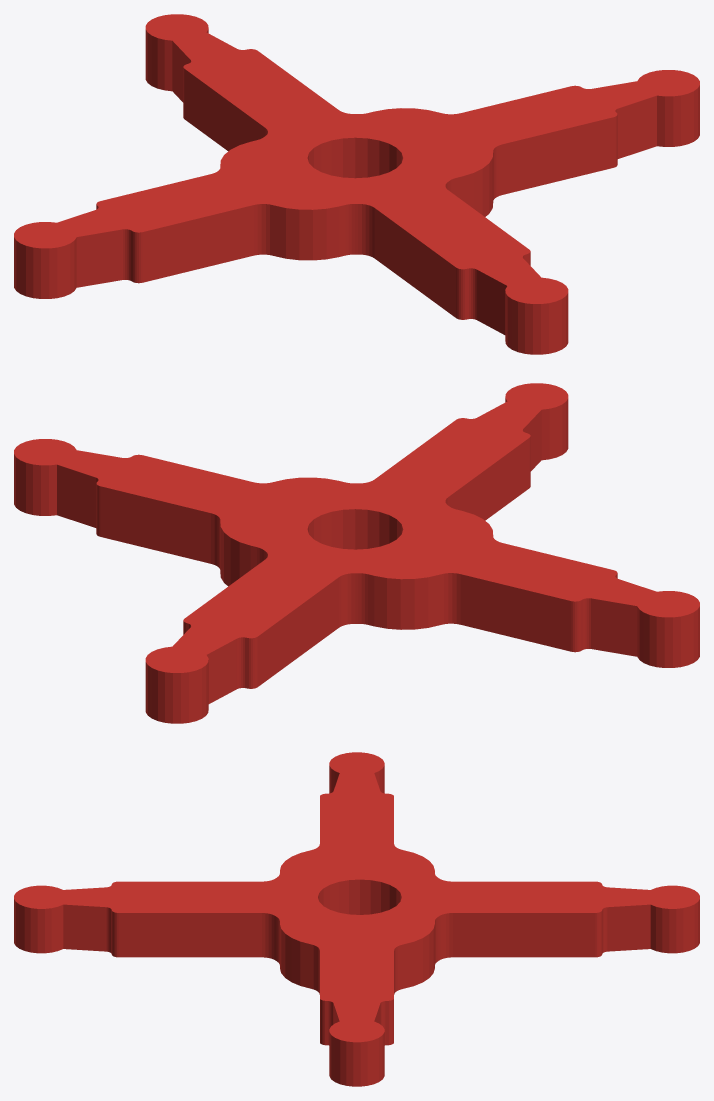
The model's file is star-4-u.fbx.
3 renders of one model, top to bottom at view 1: azimuth 30°, elevation 25°; view 2: azimuth 150°, elevation 25°; view 3: azimuth 270°, elevation 25°, orthographic. The views are drawn at different scales.
Visible parts, largest first — view 1: star_4_u; view 2: star_4_u; view 3: star_4_u.
Boxes of the visible parts, bbox=[...] form: star_4_u: bbox=[14, 14, 699, 354]; star_4_u: bbox=[14, 383, 699, 723]; star_4_u: bbox=[14, 752, 699, 1086].
Bounding box in the file's own units: 4.2 × 0.3 × 4.2.
